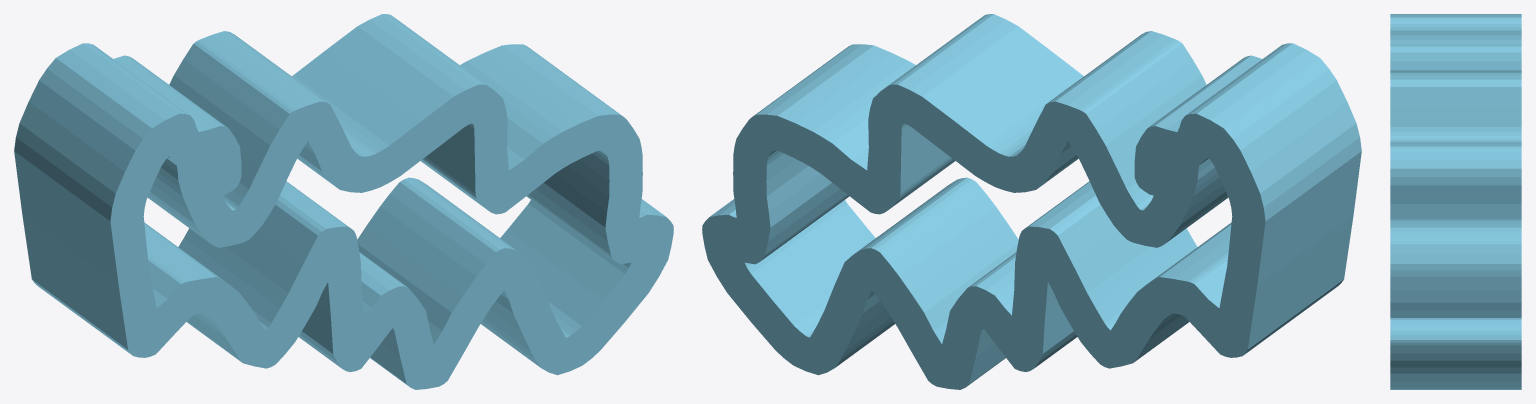
File: roehrich.obj
The picture shows the model from 3 angles, left to right: view 1: azimuth 30°, elevation 25°; view 2: azimuth 150°, elevation 25°; view 3: azimuth 270°, elevation 25°; orthographic projection. The views are drawn at different scales.
Parts seen in each view (by area): view 1: obj_0; view 2: obj_0; view 3: obj_0.
Boxes of the visible parts, <box> form: obj_0: <box>14,14,673,389</box>; obj_0: <box>702,14,1361,389</box>; obj_0: <box>1390,14,1521,389</box>.
Size of the model in its own units: 33.78 by 20.27 by 10.
